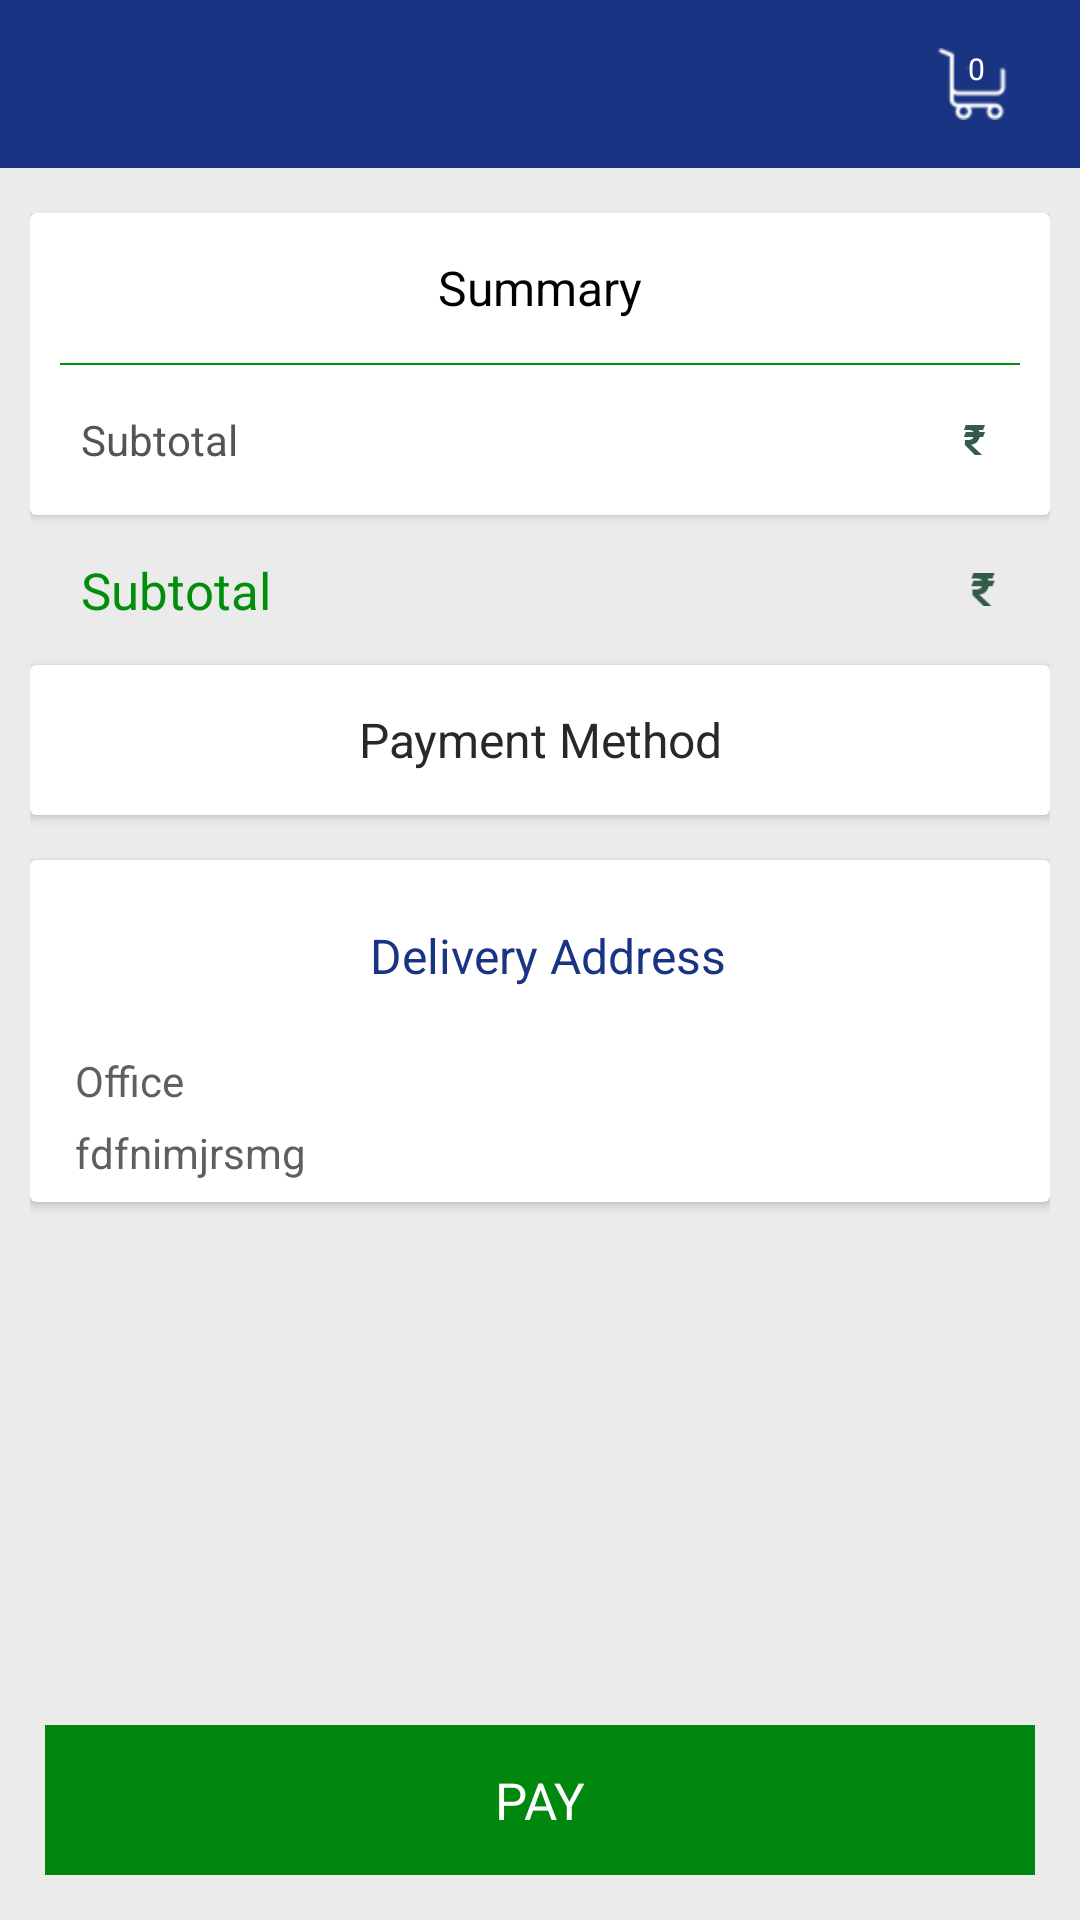

Icon click points for this 1080w x 1920h phone screenshot, format (x,y):
cart: (972,84)
rupee: (974,440), (983,589)
